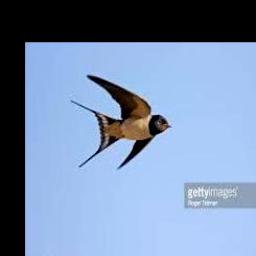Swallow: (70, 74, 171, 169)
